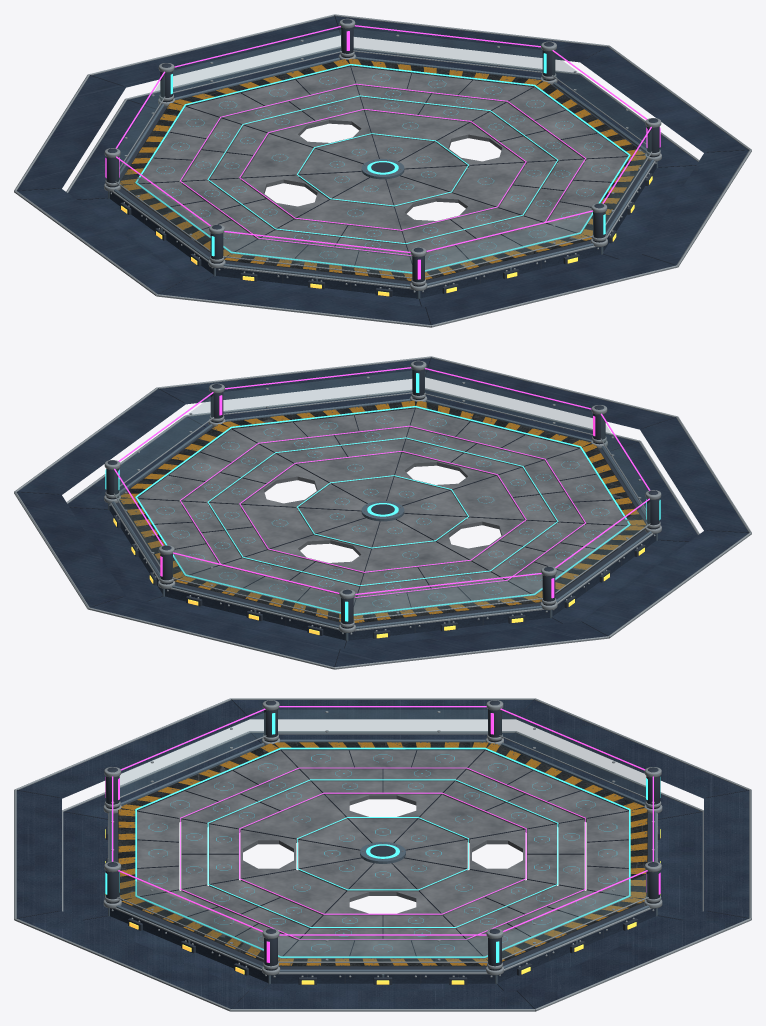
Rendered from curto-circuito-arena-game-v11.glb.
The picture shows the model from 3 angles, top to bottom: view 1: azimuth 30°, elevation 25°; view 2: azimuth 150°, elevation 25°; view 3: azimuth 270°, elevation 25°; orthographic projection. The views are drawn at different scales.
Visible parts, largest first — view 1: Static | Iron | dark catwalk, Static | Safety | clear blue safety glass, Static | Iron | machined edges, Static | Metal | charcoal, Static | Safety | stripe black, Phase 5 | Floor steel | tone 0, Phase 5 | Floor steel | tone 2, Phase 5 | Floor steel | tone 1, Phase 5 | Floor steel | tone 3, Static | Safety | amber yellow, Phase 2 | Floor steel | tone 1, Static | Metal | satin gunmetal (+26 smaller); view 2: Static | Iron | dark catwalk, Static | Safety | clear blue safety glass, Static | Iron | machined edges, Static | Metal | charcoal, Static | Safety | stripe black, Phase 5 | Floor steel | tone 2, Phase 5 | Floor steel | tone 0, Phase 5 | Floor steel | tone 1, Phase 5 | Floor steel | tone 3, Static | Safety | amber yellow, Phase 2 | Floor steel | tone 3, Static | Metal | satin gunmetal (+26 smaller); view 3: Static | Iron | dark catwalk, Static | Safety | clear blue safety glass, Static | Iron | machined edges, Static | Metal | charcoal, Static | Safety | stripe black, Phase 5 | Floor steel | tone 3, Phase 5 | Floor steel | tone 1, Phase 5 | Floor steel | tone 0, Phase 5 | Floor steel | tone 2, Static | Safety | amber yellow, Phase 2 | Floor steel | tone 1, Phase 2 | Floor steel | tone 3 (+28 smaller).
Boxes of the visible parts, x1,y1,x2,y2 form: Static | Iron | dark catwalk: (17, 16, 748, 324); Static | Safety | clear blue safety glass: (116, 29, 651, 276); Static | Iron | machined edges: (14, 14, 751, 327); Static | Metal | charcoal: (106, 19, 659, 296); Static | Safety | stripe black: (120, 59, 646, 281); Phase 5 | Floor steel | tone 0: (232, 66, 532, 273); Phase 5 | Floor steel | tone 2: (136, 106, 627, 234); Phase 5 | Floor steel | tone 1: (186, 66, 579, 272); Phase 5 | Floor steel | tone 3: (137, 87, 627, 253); Static | Safety | amber yellow: (120, 58, 645, 280); Phase 2 | Floor steel | tone 1: (295, 110, 468, 231); Static | Metal | satin gunmetal: (108, 56, 657, 299); Static | Iron | dark catwalk: (17, 358, 748, 666); Static | Safety | clear blue safety glass: (114, 371, 649, 618); Static | Iron | machined edges: (14, 356, 751, 669); Static | Metal | charcoal: (106, 361, 659, 638); Static | Safety | stripe black: (119, 401, 645, 623); Phase 5 | Floor steel | tone 2: (233, 408, 533, 615); Phase 5 | Floor steel | tone 0: (138, 448, 629, 576); Phase 5 | Floor steel | tone 1: (186, 408, 579, 614); Phase 5 | Floor steel | tone 3: (138, 429, 628, 595); Static | Safety | amber yellow: (120, 400, 645, 622); Phase 2 | Floor steel | tone 3: (297, 452, 470, 573); Static | Metal | satin gunmetal: (108, 398, 657, 641); Static | Iron | dark catwalk: (16, 700, 749, 1008); Static | Safety | clear blue safety glass: (118, 710, 647, 961); Static | Iron | machined edges: (14, 698, 751, 1011); Static | Metal | charcoal: (105, 700, 660, 984); Static | Safety | stripe black: (118, 742, 647, 966); Phase 5 | Floor steel | tone 3: (281, 750, 484, 958); Phase 5 | Floor steel | tone 1: (136, 811, 629, 897); Phase 5 | Floor steel | tone 0: (137, 750, 628, 958); Phase 5 | Floor steel | tone 2: (137, 750, 628, 958); Static | Safety | amber yellow: (118, 742, 647, 965); Phase 2 | Floor steel | tone 1: (241, 795, 524, 915); Phase 2 | Floor steel | tone 3: (241, 795, 524, 915).
Bounding box in the file's own units: 20.86 × 1.84 × 20.86.
24 materials, 12 textured.
